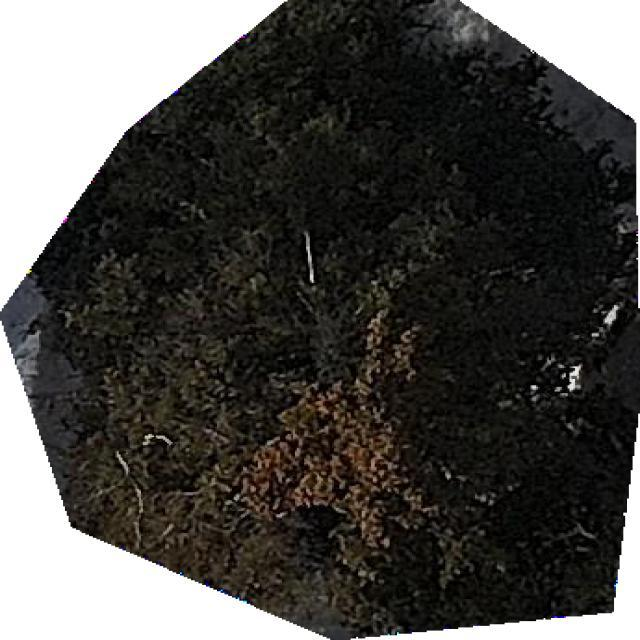pine: (3, 0, 639, 638)
